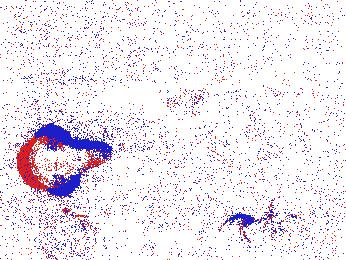flame jellyfish: (19, 125, 112, 197), (212, 196, 299, 260), (39, 208, 99, 260)
